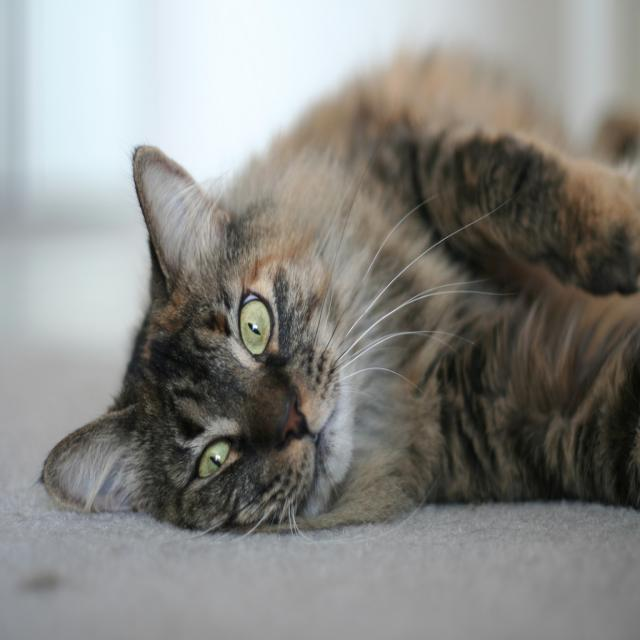left eye: (236, 288, 275, 358)
